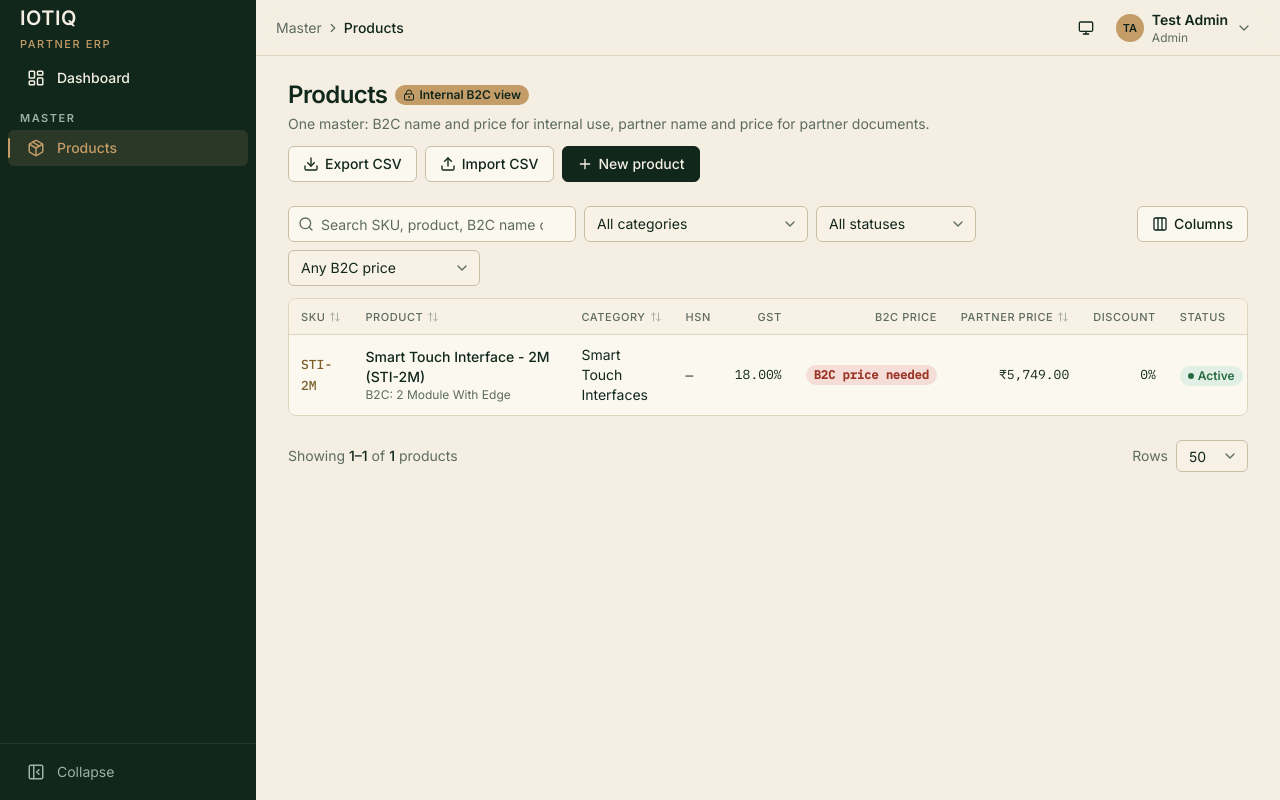
CSV import › previews first, then imports the valid rows
Later steps or results of the test are not shown.
Click the button "Import CSV": (489, 164) [425, 146, 554, 182]
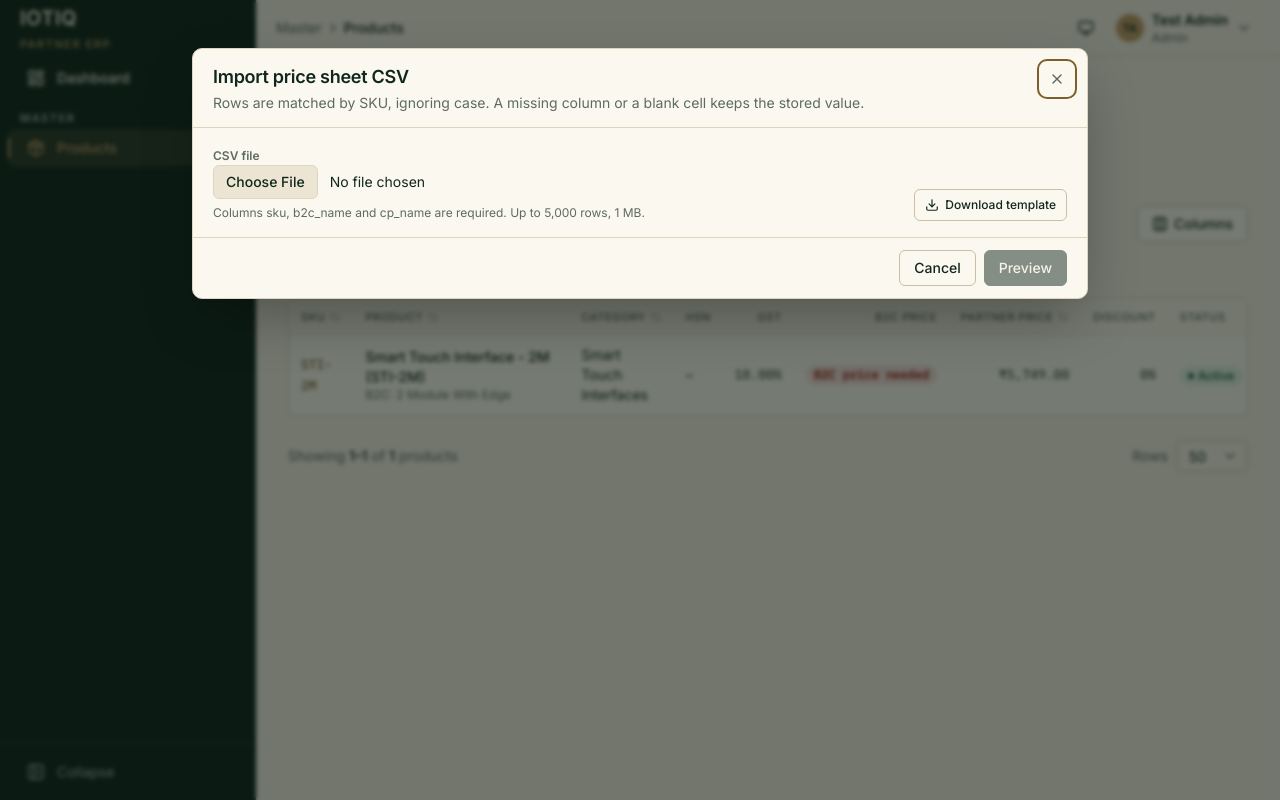
Check: the button "Preview" is disabled, box [984, 250, 1067, 286]
